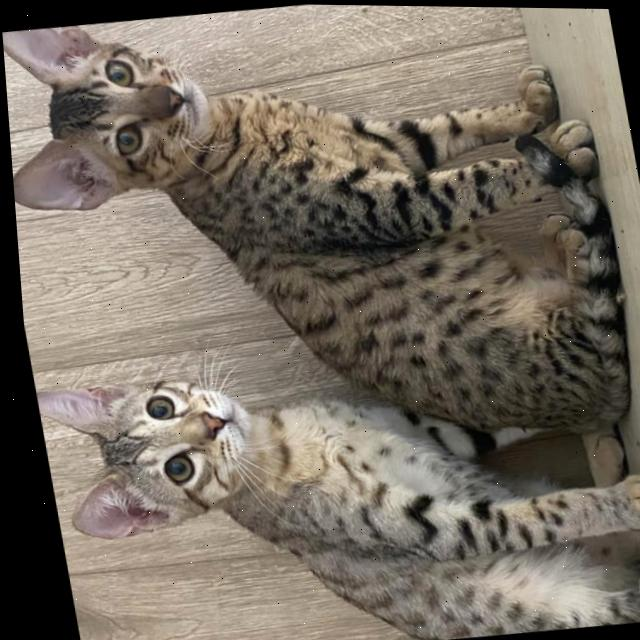Savannah: (0, 0, 640, 485), (24, 319, 640, 640)
